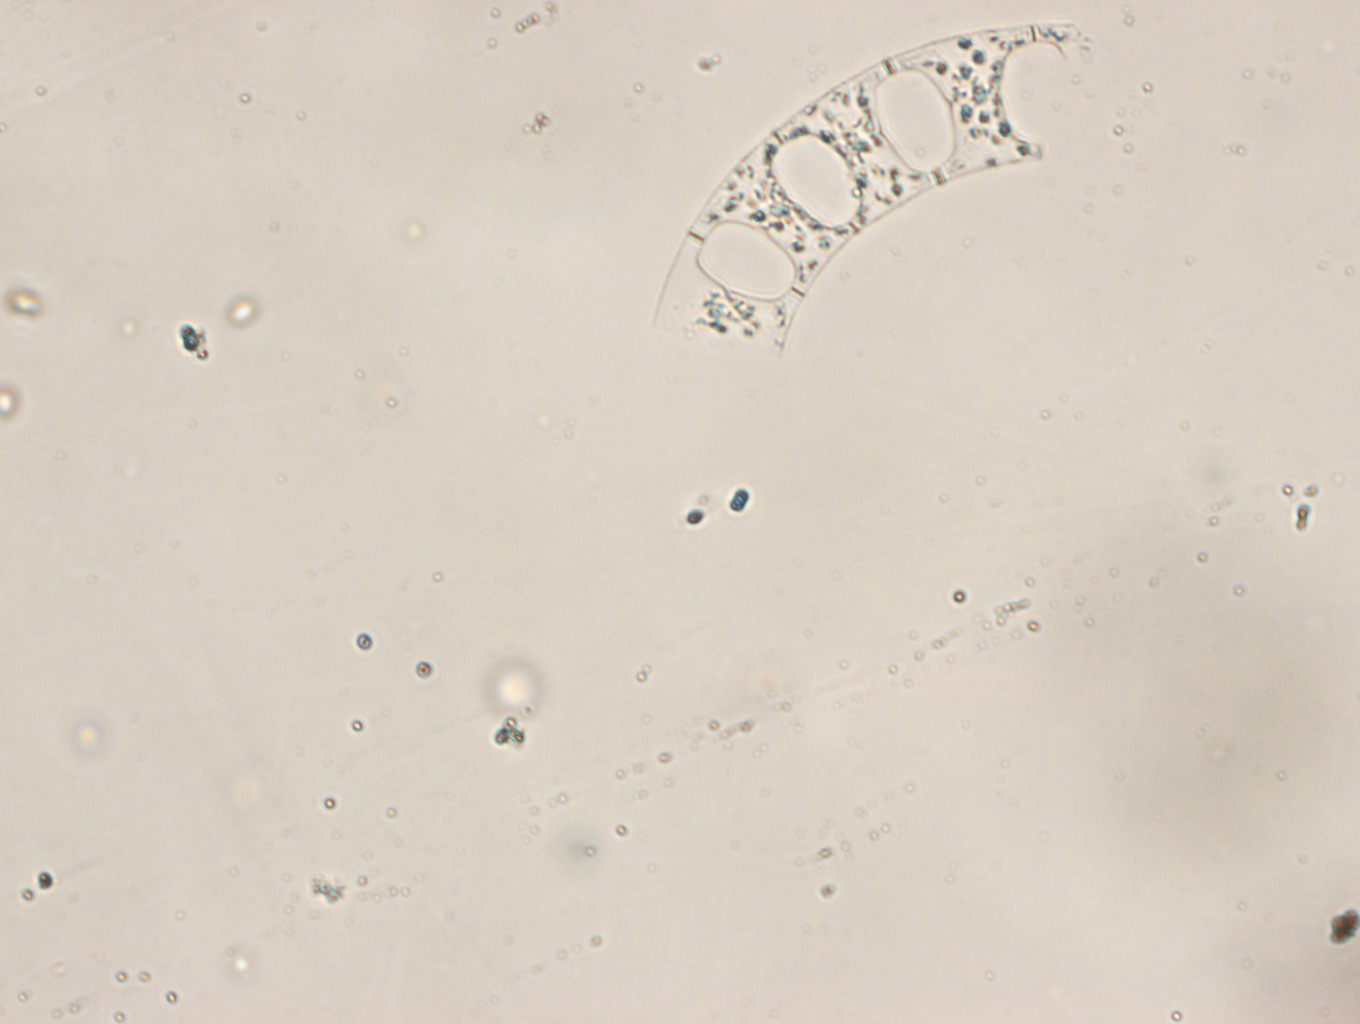eucampia: (640, 12, 1097, 372)
